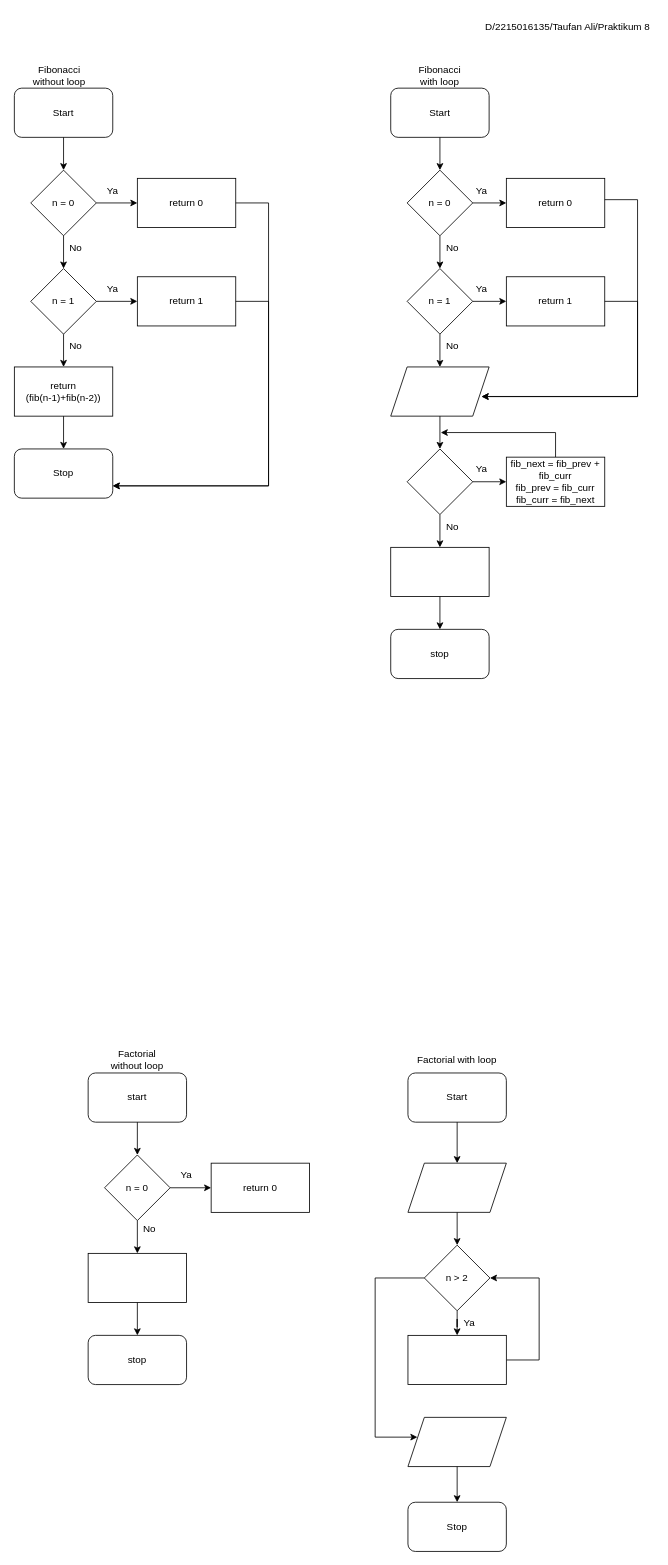
The diagram is 668 pixels wide and 1565 high, and some of its shapes have lost their labels. The shapes that lost their labels are listed below. From the top down, each one's box as (x1, y1, x2, y2) in pixels, then its label:
(390, 366, 489, 416): fib_prev = 0 fib_curr = 1
(406, 448, 473, 515): _ in range (2, n+1)
(390, 547, 489, 597): return fib_curr
(407, 1162, 506, 1212): n = 4 factorial = n
(87, 1253, 187, 1303): return n * factorial(n-1)
(407, 1335, 506, 1385): n = n-1 factorial = factorial * n
(407, 1417, 506, 1467): Tampilkan factorial
